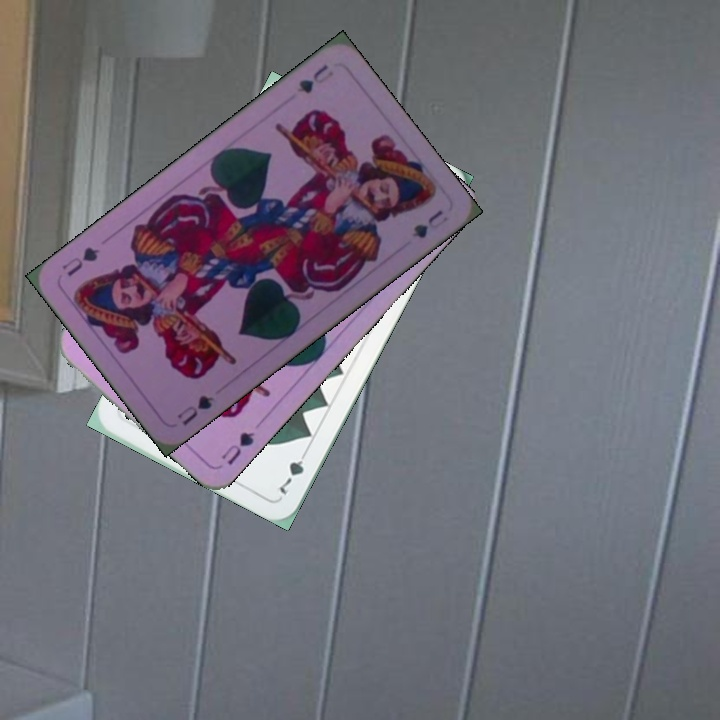G7: (275, 444, 310, 497)
GU: (173, 390, 217, 429), (217, 428, 258, 468), (293, 60, 337, 97)
